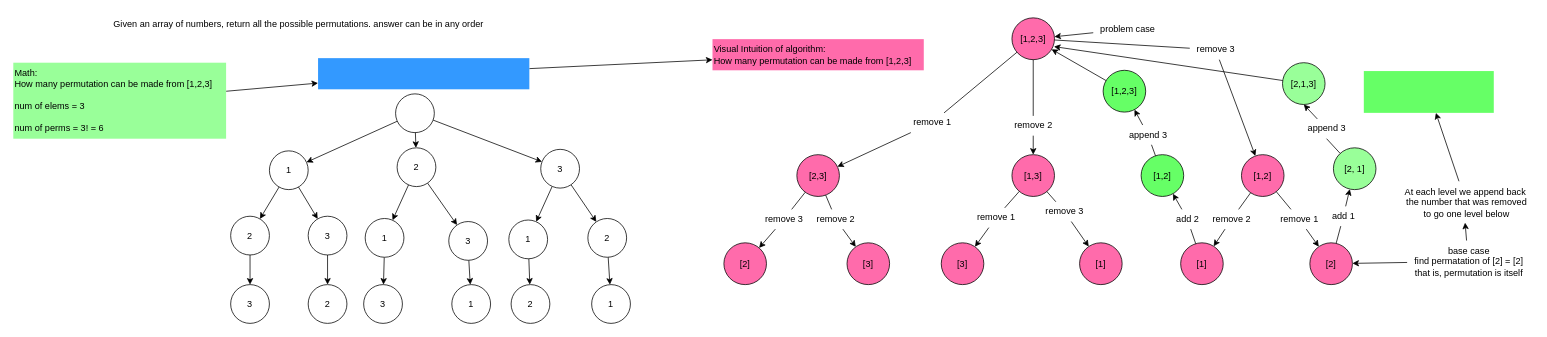
This 1547x337 diagram has some shape labels left out. The box of each missing label's shape, as (x1, y1, x2, y2) in pixels:
start: (395, 93, 434, 133)
Visual Intuition of solution: How many permutation can be made from [1,2,3]: (318, 58, 529, 89)
We can see how the backtracking happens in each step, shown in green: (1363, 71, 1493, 112)
